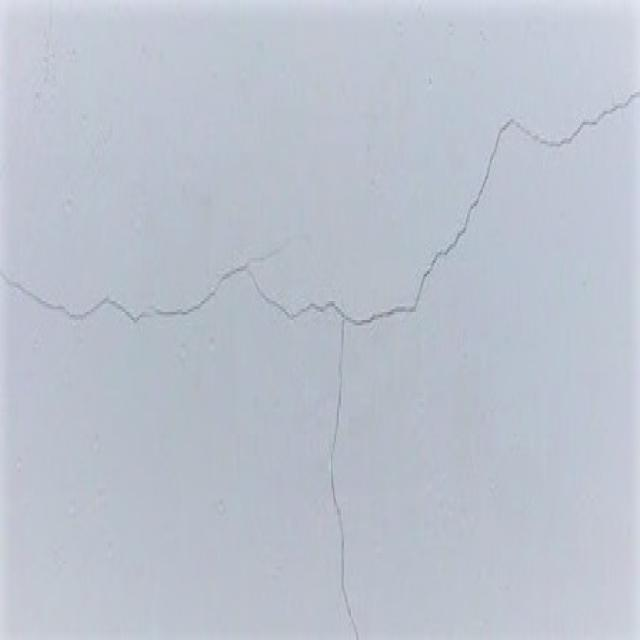Crack: (237, 171, 430, 629), (4, 174, 226, 388), (438, 44, 633, 258)
